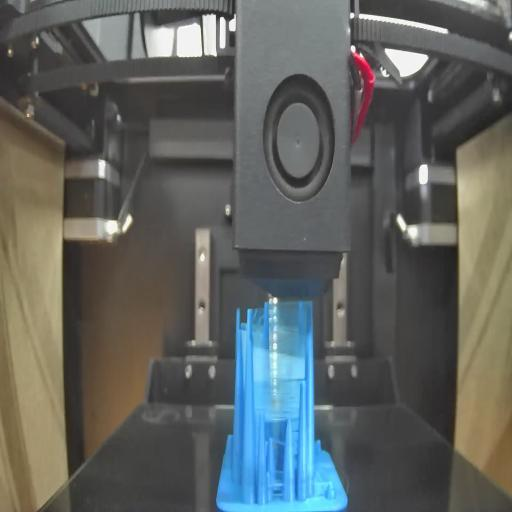stringing: (254, 300, 308, 419), (266, 434, 288, 505), (312, 478, 336, 502)
